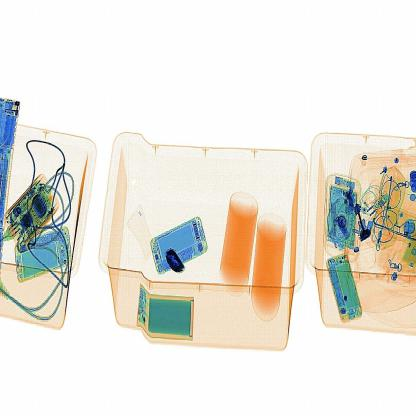scissors: (158, 239, 192, 282)
